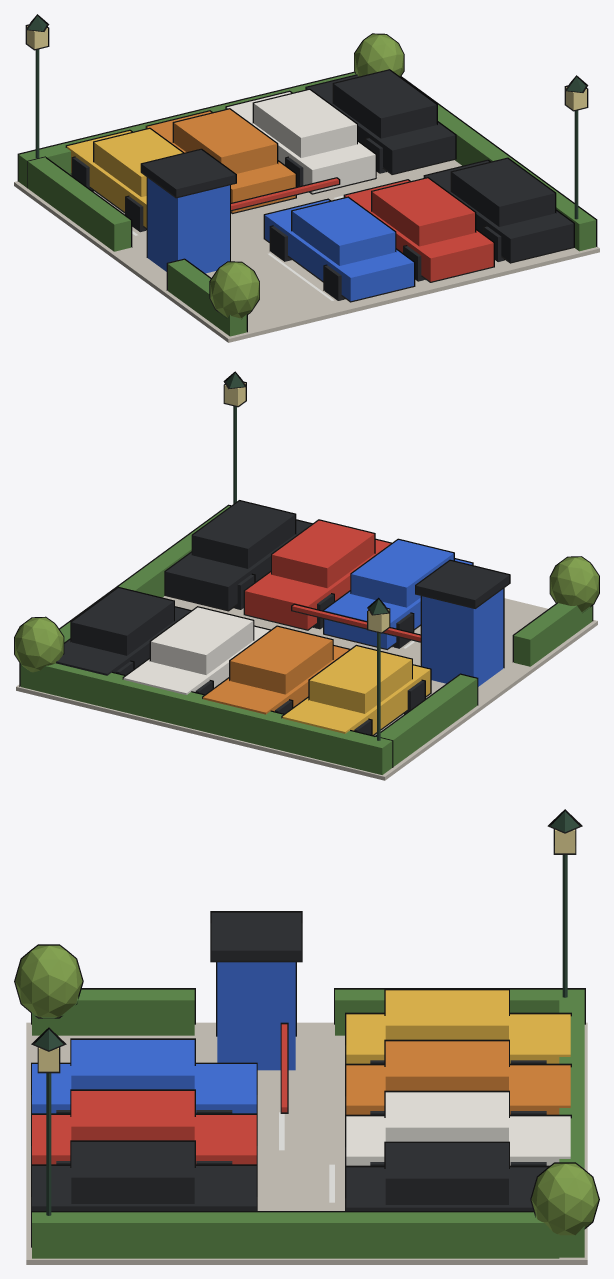
Rendered from Avlu_otopark_cinar.fbx.
The picture shows the model from 3 angles, top to bottom: view 1: azimuth 30°, elevation 25°; view 2: azimuth 150°, elevation 25°; view 3: azimuth 270°, elevation 25°; orthographic projection. The views are drawn at different scales.
Parts seen in each view (by area): view 1: Avlu_otopark_cinar; view 2: Avlu_otopark_cinar; view 3: Avlu_otopark_cinar.
Part boxes in pixels (x1,y1,x2,y2): Avlu_otopark_cinar: (14, 14, 599, 342); Avlu_otopark_cinar: (14, 371, 599, 780); Avlu_otopark_cinar: (14, 809, 599, 1264).
Size of the model in its own units: 10.44 by 4.49 by 10.44.
